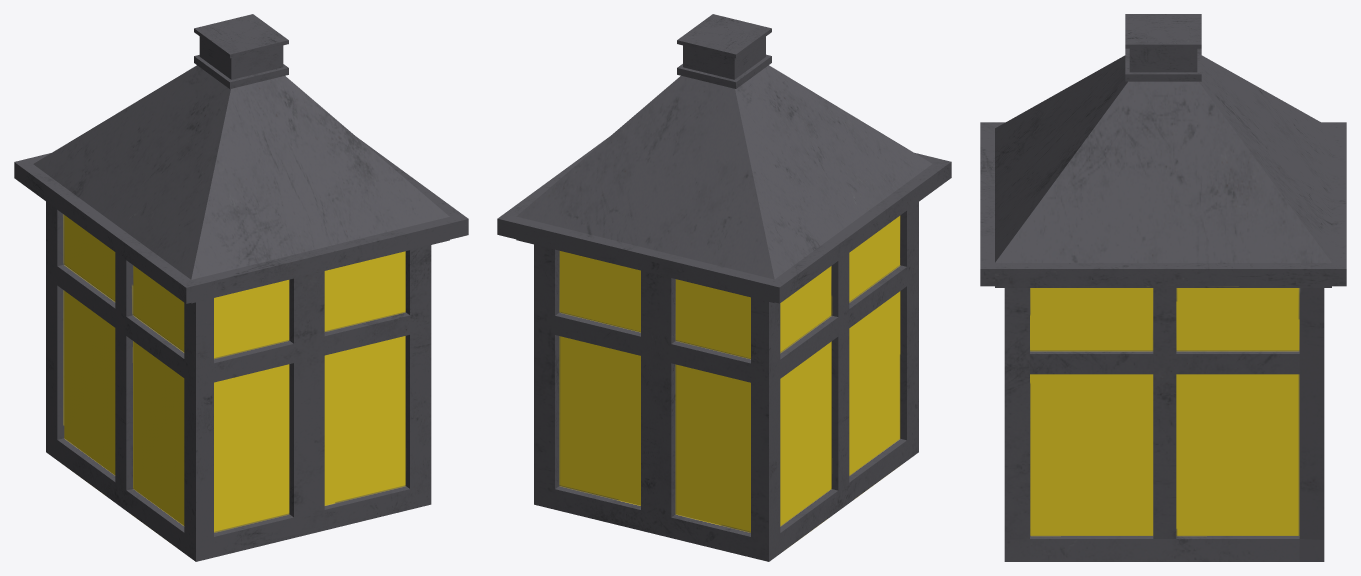
The model's file is Lanterns.fbx.
3 renders of one model, left to right at view 1: azimuth 30°, elevation 25°; view 2: azimuth 150°, elevation 25°; view 3: azimuth 270°, elevation 25°, orthographic. The views are drawn at different scales.
Parts seen in each view (by area): view 1: Lantern; view 2: Lantern; view 3: Lantern.
Part boxes in pixels (x1=…): Lantern: x1=14, y1=14, x2=468, y2=561; Lantern: x1=497, y1=14, x2=951, y2=561; Lantern: x1=980, y1=14, x2=1346, y2=561.
Size of the model in its own units: 3.3 by 4.95 by 3.48.
